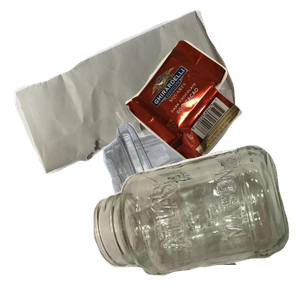glass: (91, 143, 300, 300)
paper: (12, 10, 240, 176)
plastic: (55, 120, 284, 300)
trash: (123, 37, 300, 192)
